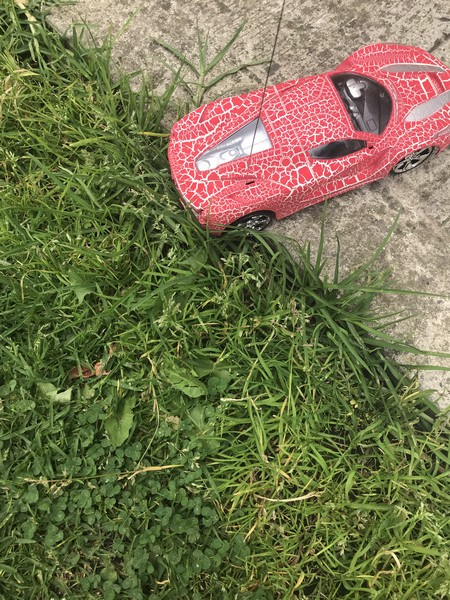RC: (165, 41, 449, 242)
